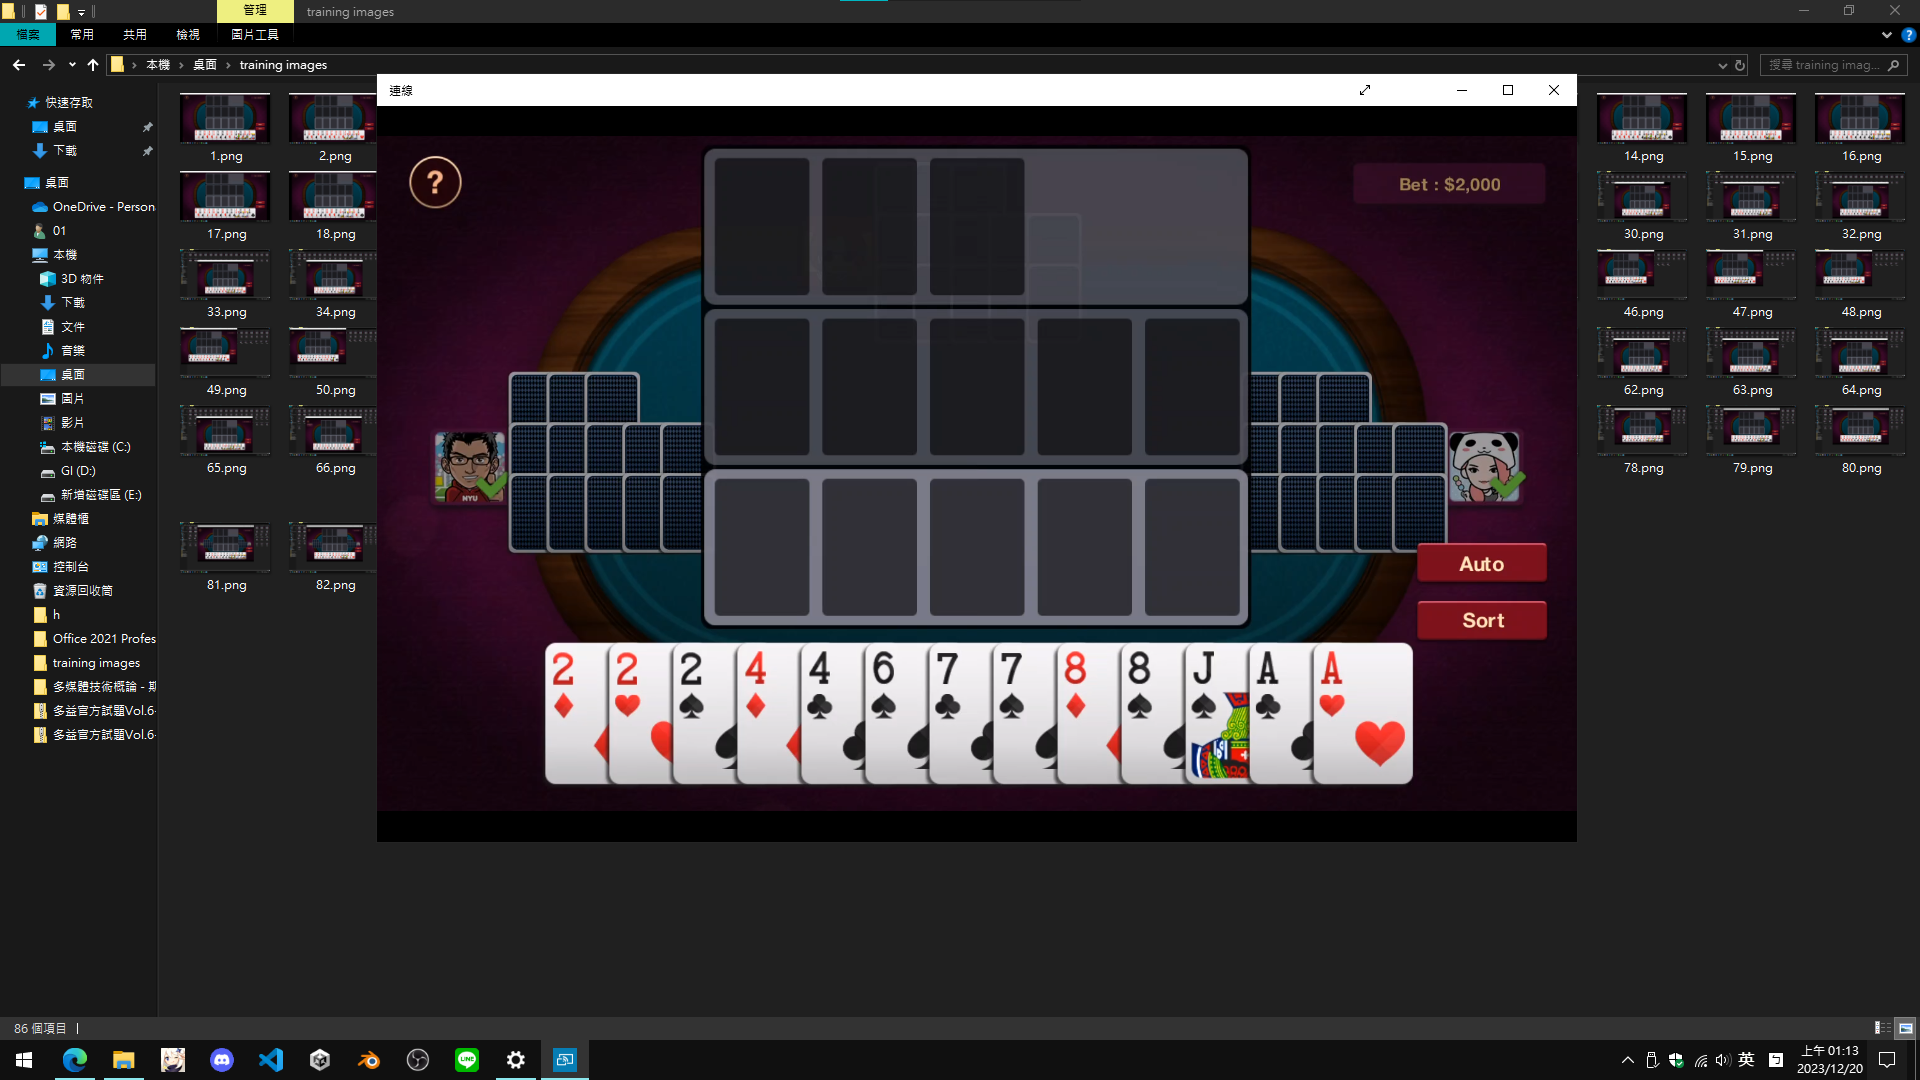2D: (550, 645, 576, 719)
2H: (613, 646, 642, 719)
2S: (676, 647, 708, 724)
4C: (804, 649, 837, 724)
4D: (741, 649, 769, 723)
6S: (868, 647, 898, 723)
7C: (932, 650, 964, 721)
7S: (997, 647, 1030, 727)
8D: (1060, 647, 1092, 724)
8S: (1124, 647, 1156, 724)
AC: (1253, 647, 1284, 721)
AH: (1317, 649, 1348, 721)
JS: (1189, 647, 1220, 724)
